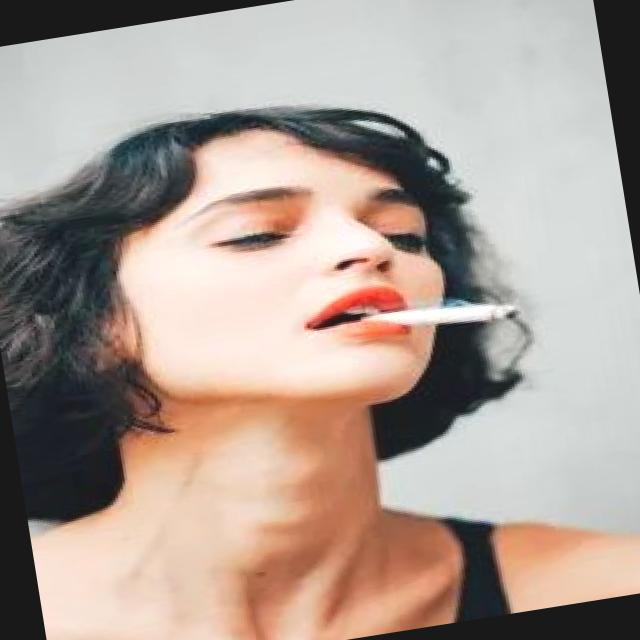smoke: (348, 286, 526, 347)
